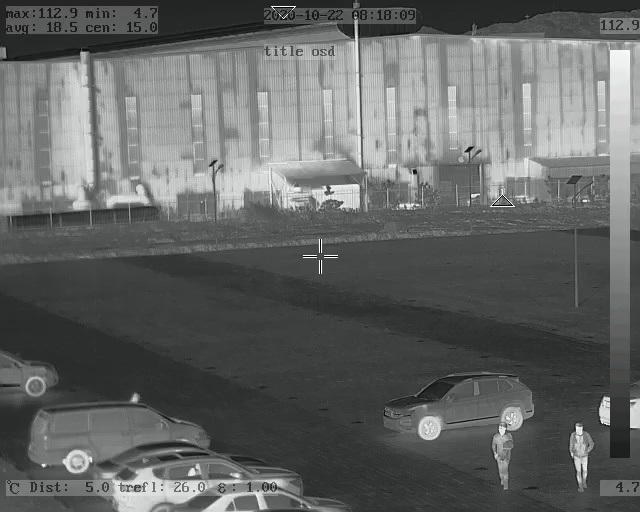person: (569, 424, 593, 488), (491, 421, 513, 486)
vehicle: (27, 403, 212, 472), (109, 450, 299, 512), (386, 374, 533, 437), (1, 351, 56, 403)
